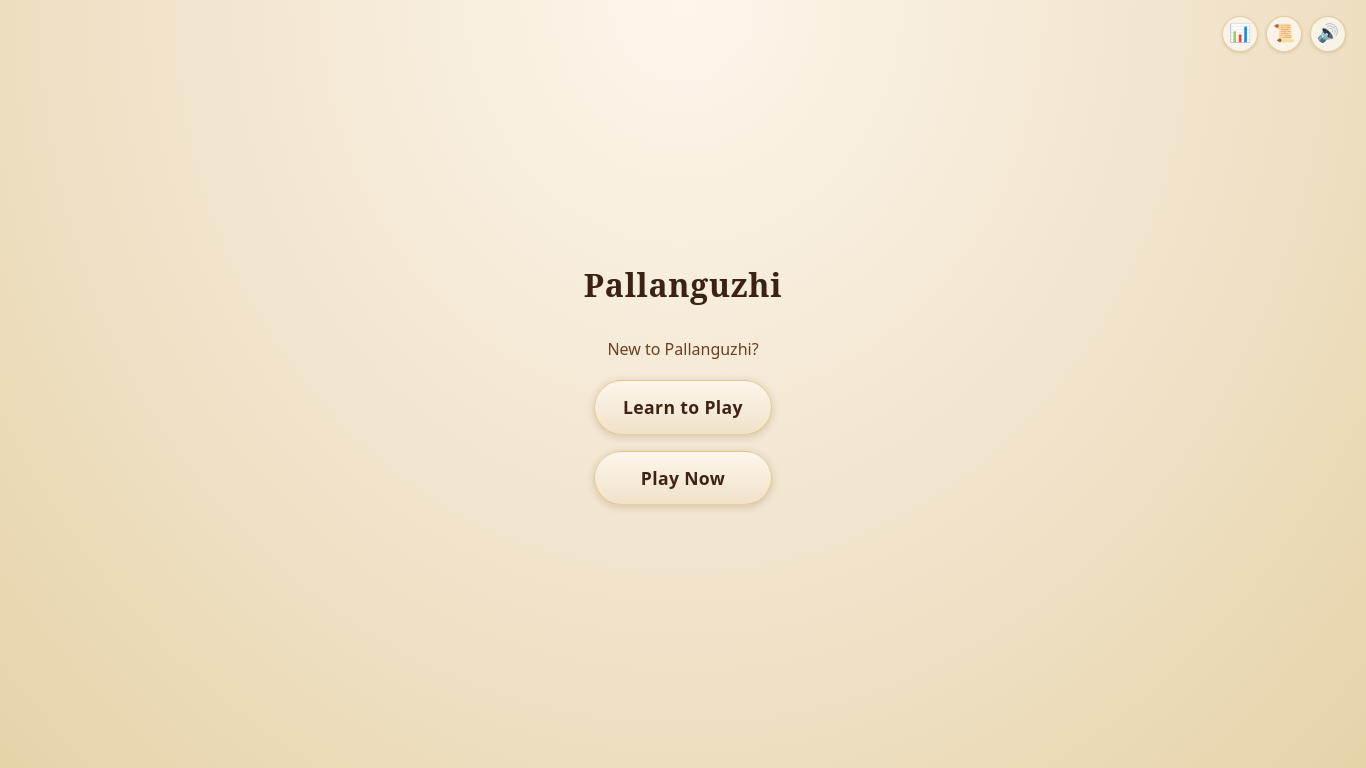
Test case: App › animates seed distribution, then shows the final state and switches the turn
Click the button "Play Now" at [683, 478], box top-left (594, 450), bottom-right (772, 505)
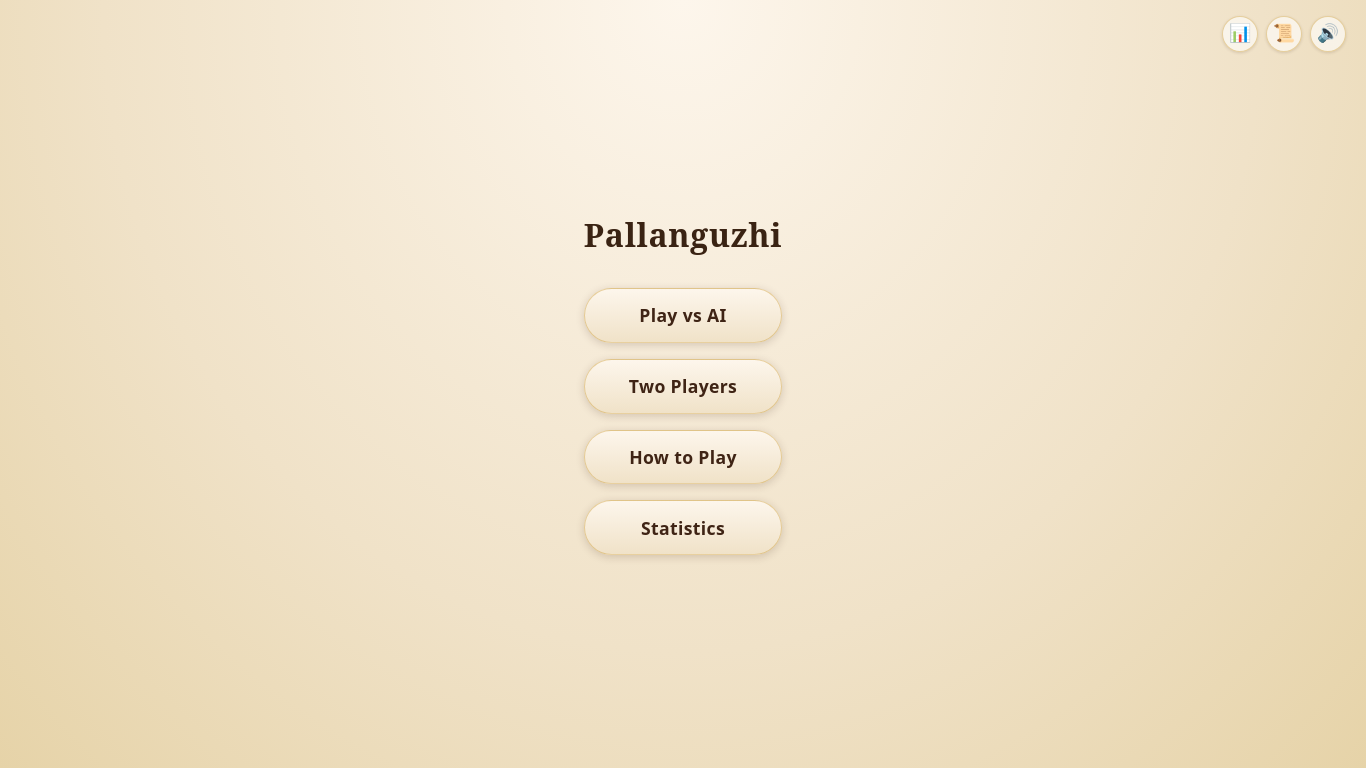
Click the button "Play vs AI" at [683, 315], box top-left (584, 288), bottom-right (782, 343)
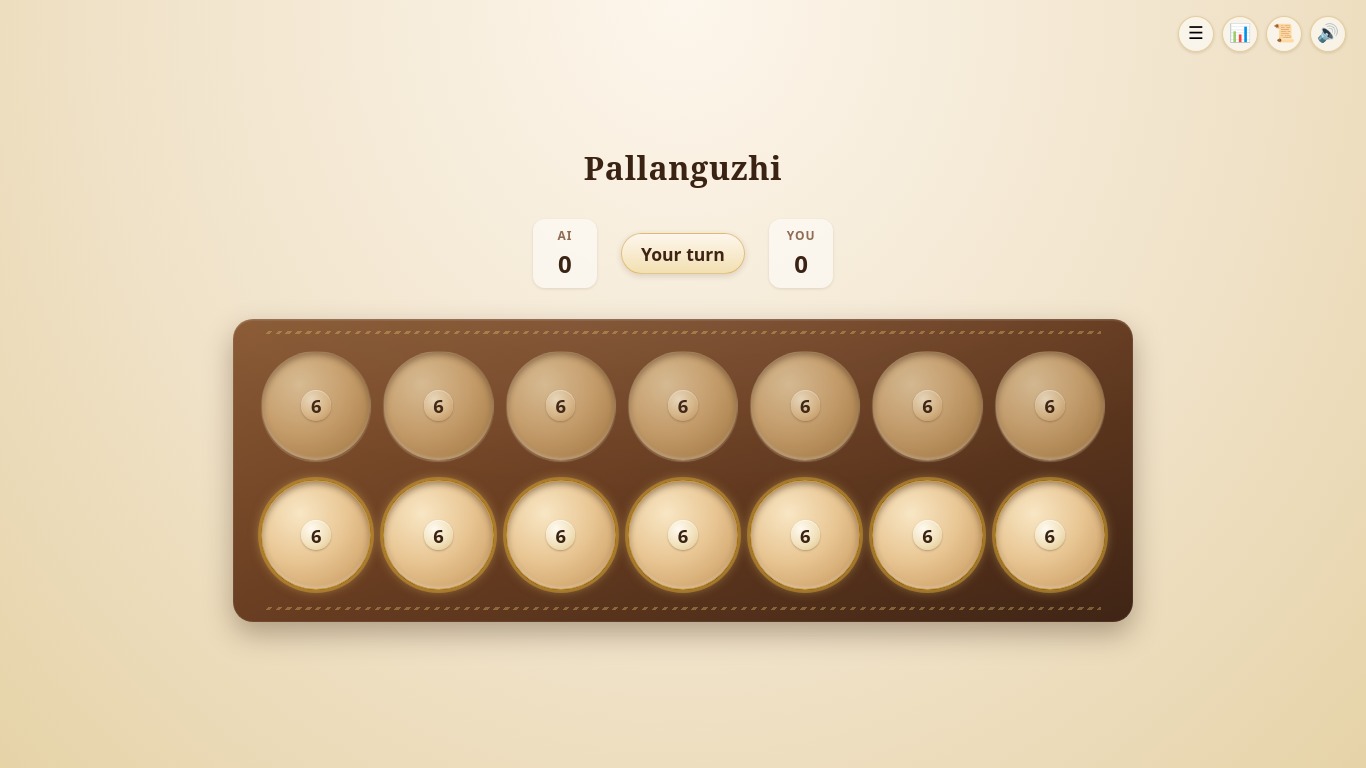
Click the button with test id "pit-7" at [316, 535], box top-left (261, 480), bottom-right (371, 590)
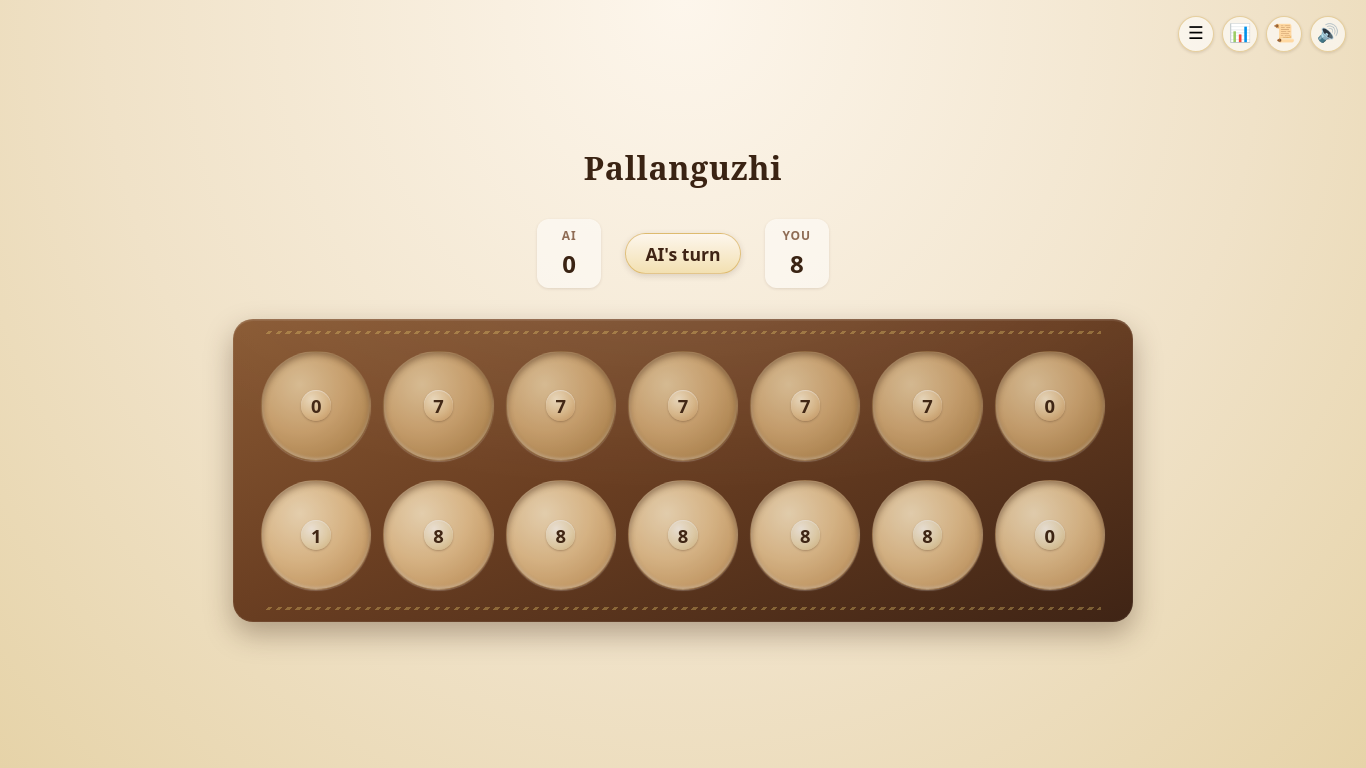
Expected: the button with test id "pit-0" is disabled, top-left (261, 350), bottom-right (371, 461)
Expected: the text "Your turn" is gone
Expected: the text "AI's turn" is shown, top-left (625, 233), bottom-right (741, 274)
